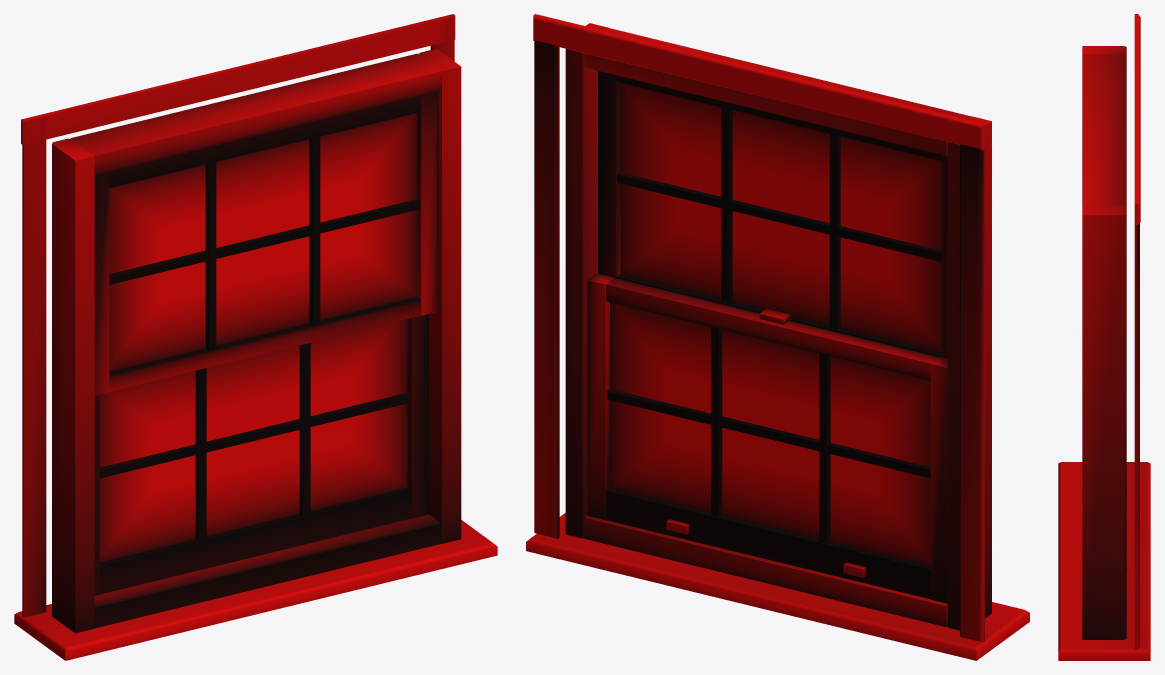
Rendered from CI_Shell_Window_Sash.fbx.
3 views of the same model, side by side, from view 1: azimuth 30°, elevation 25°; view 2: azimuth 150°, elevation 25°; view 3: azimuth 270°, elevation 25° (orthographic). The views are drawn at different scales.
Parts seen in each view (by area): view 1: CI_Shell_Window_Sash; view 2: CI_Shell_Window_Sash; view 3: CI_Shell_Window_Sash.
Boxes of the visible parts, left/top/right/bottom form: CI_Shell_Window_Sash: left=14, top=14, right=497, bottom=660; CI_Shell_Window_Sash: left=526, top=14, right=1029, bottom=660; CI_Shell_Window_Sash: left=1058, top=14, right=1150, bottom=660.
Size of the model in its own units: 1.12 by 1.26 by 0.23.
